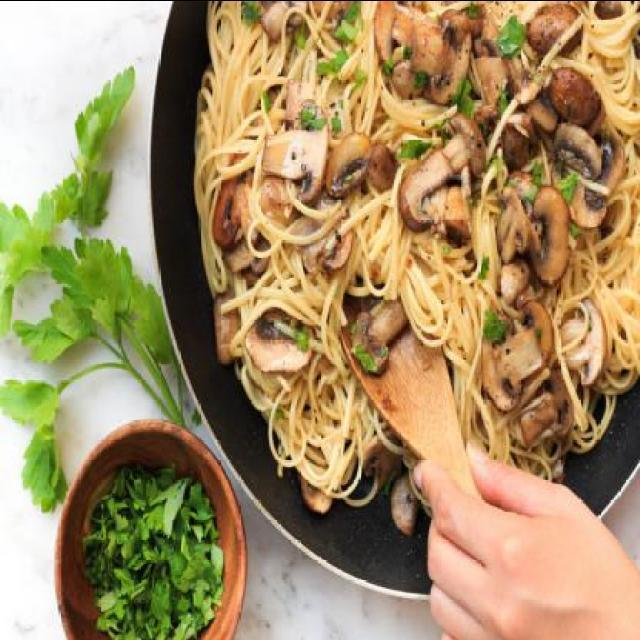Oil pasta: (205, 1, 617, 484)
